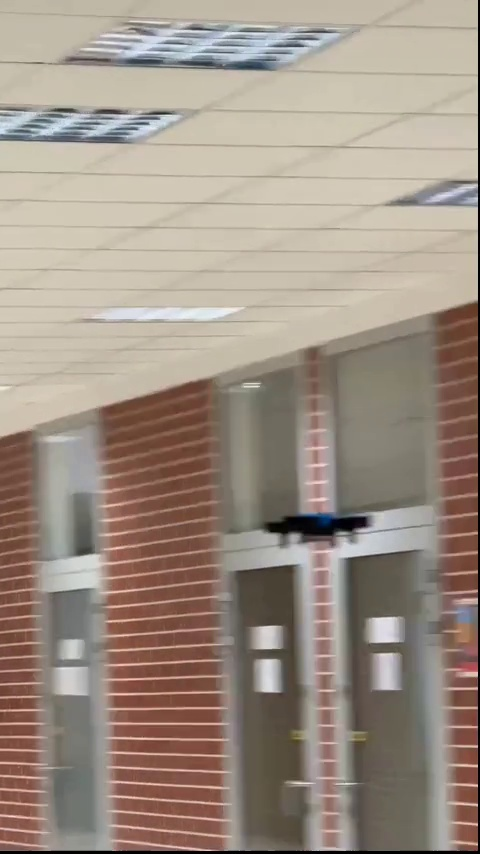drone: (265, 510, 372, 552)
